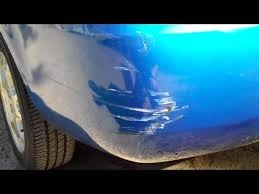Scratch: (106, 90, 190, 140), (112, 62, 143, 74), (135, 39, 152, 55)
